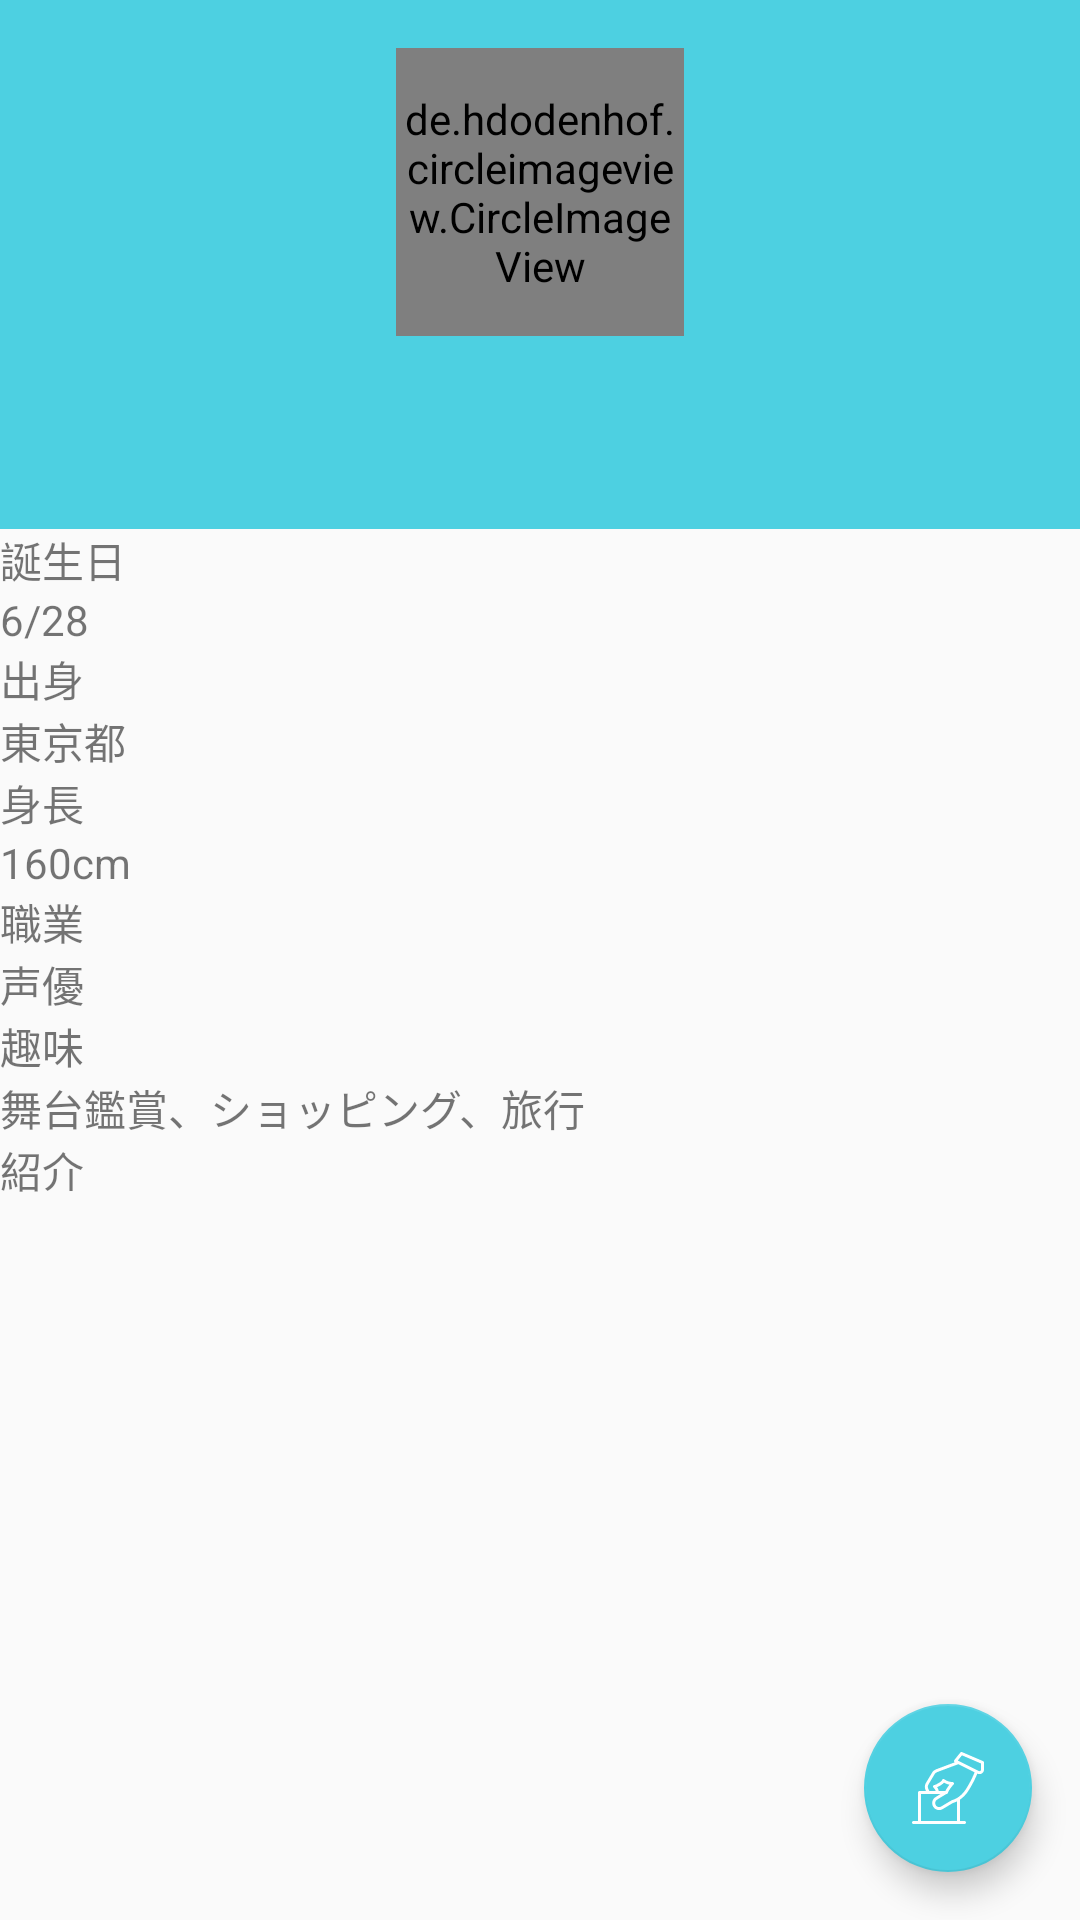

Locate icon controls on the screen. Image size 1080px x 1920px, boxes as (x1, y1, x2, y2).
elections: (864, 1704, 1032, 1872)
